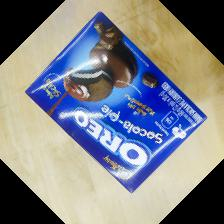Oreo: (24, 12, 209, 195)
